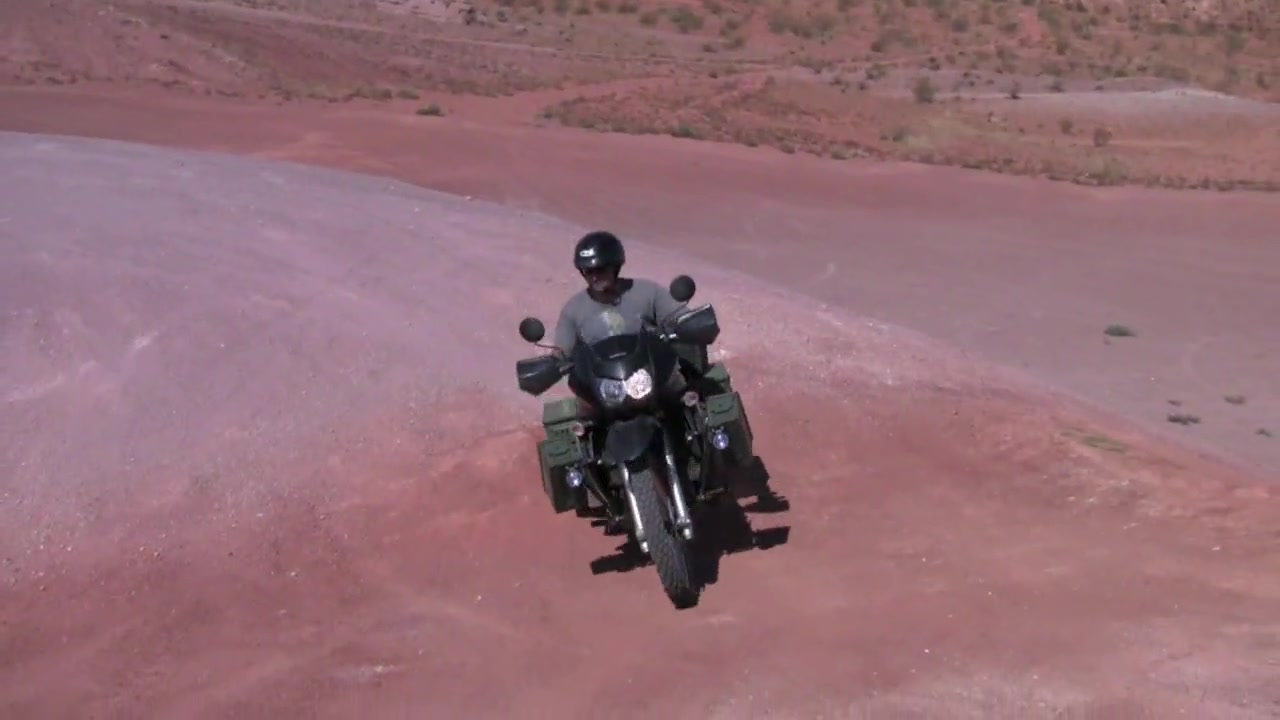motorbike: (514, 273, 776, 617)
